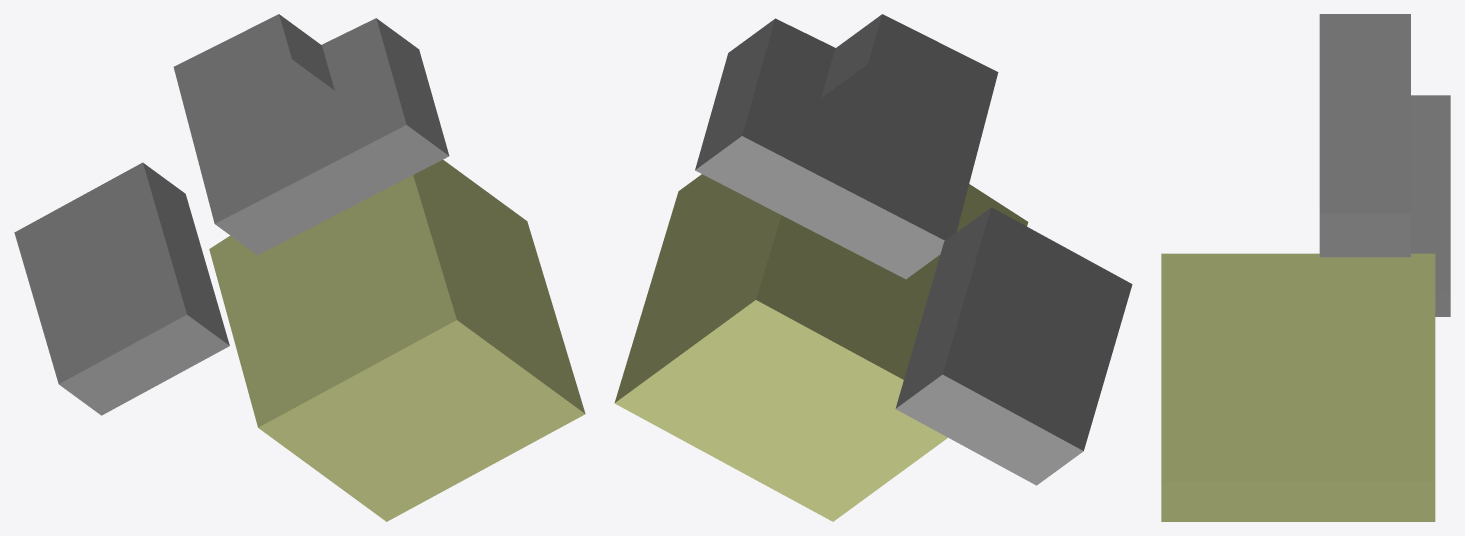
3 renders of one model, left to right at view 1: azimuth 30°, elevation 25°; view 2: azimuth 150°, elevation 25°; view 3: azimuth 270°, elevation 25°, orthographic. The views are drawn at different scales.
Parts seen in each view (by area): view 1: 0_1_0_2_1_3_3_1_1_0; view 2: 0_1_0_2_1_3_3_1_1_0; view 3: 0_1_0_2_1_3_3_1_1_0.
Part boxes in pixels (x1=…): 0_1_0_2_1_3_3_1_1_0: x1=14, y1=14, x2=585, y2=521; 0_1_0_2_1_3_3_1_1_0: x1=614, y1=14, x2=1132, y2=521; 0_1_0_2_1_3_3_1_1_0: x1=1161, y1=14, x2=1450, y2=521.
Size of the model in its own units: 17.58 by 16.2 by 9.5.
